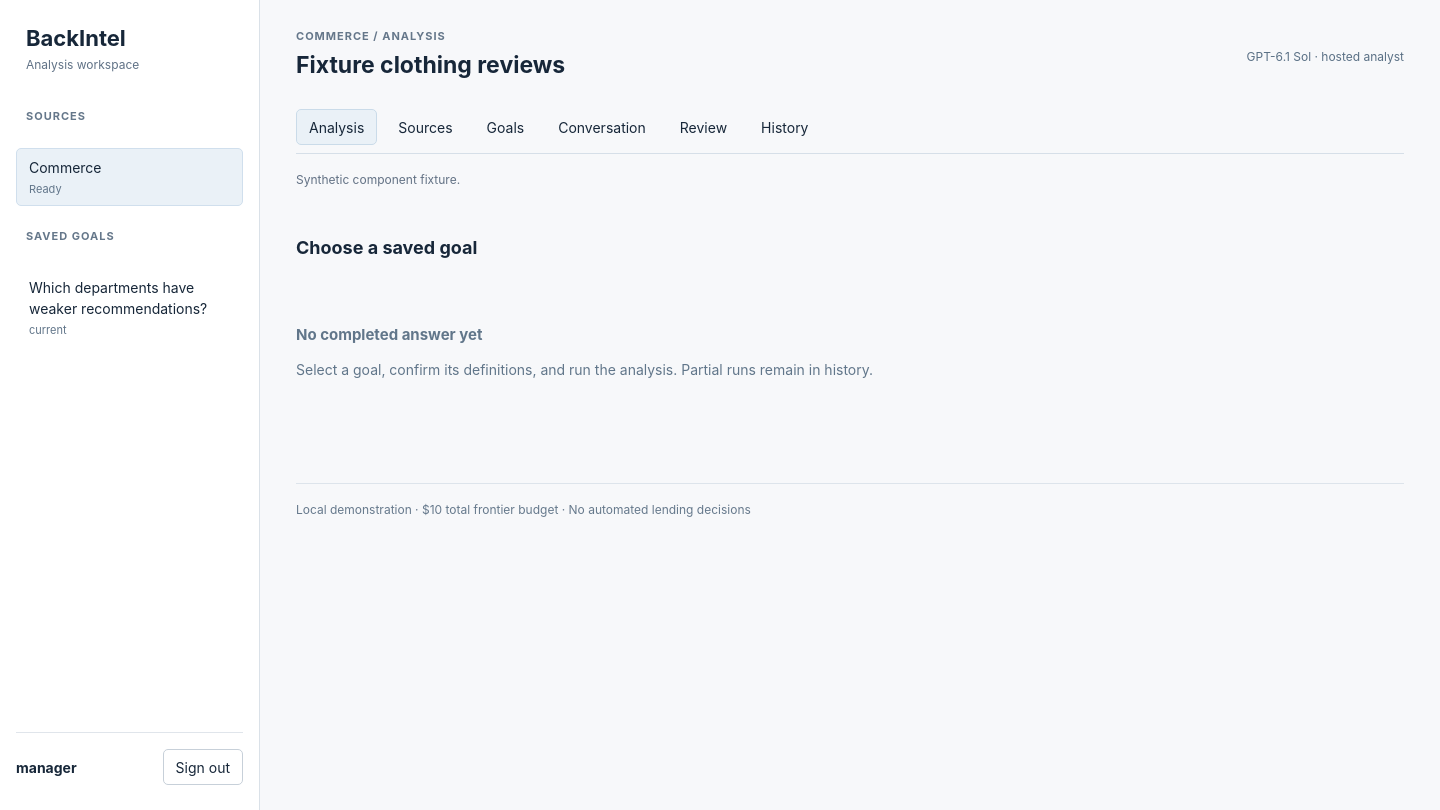
analysis workspace user controls › requires source confirmation before enabling import
Check: the heading "Fixture clothing reviews" is shown, box [296,51,565,80]
Click the button "Which departments have weaker recommendations? current".
click(130, 307)  # box [16,268,243,347]
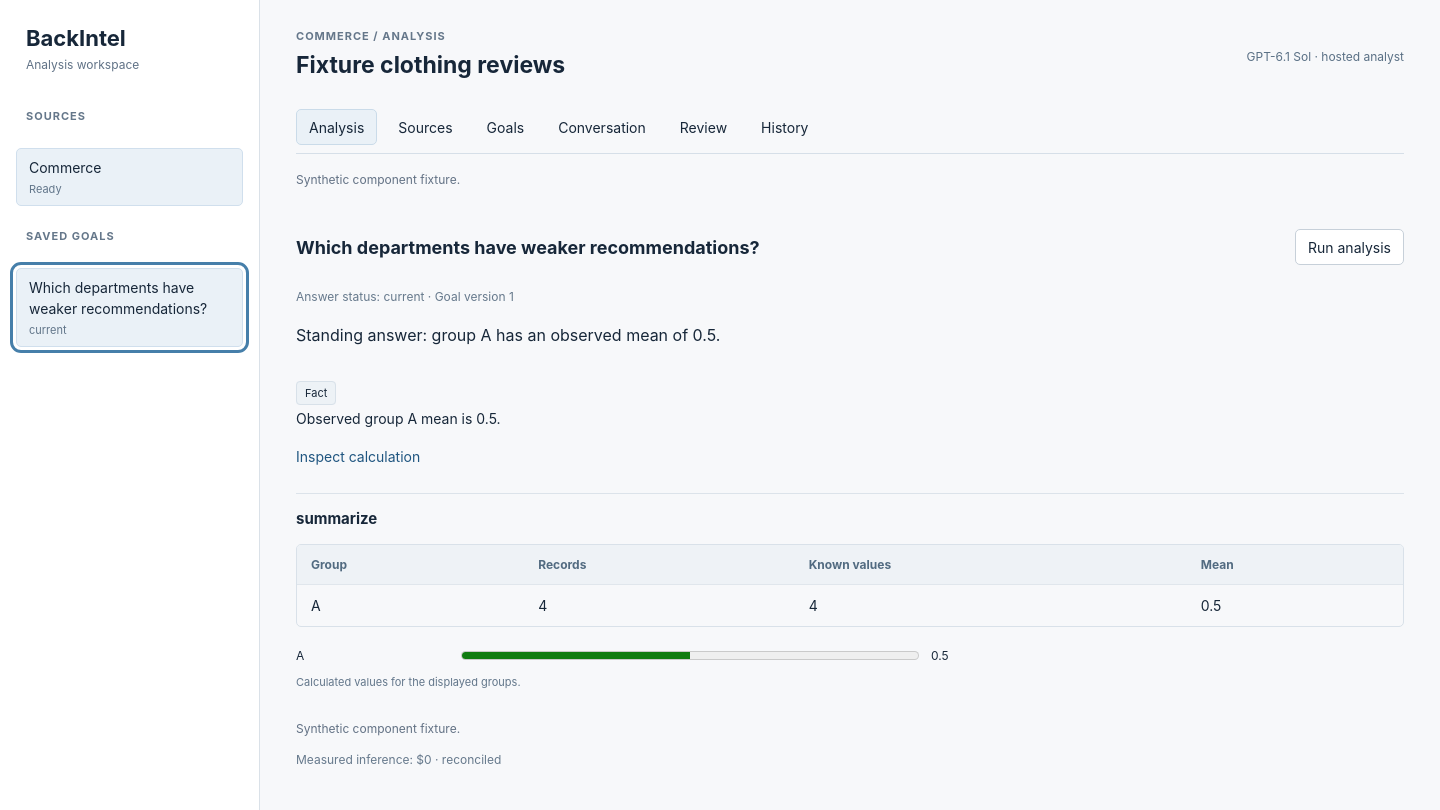
Check: the text "Standing answer: group A has an observed mean of 0.5." is shown, box [296,325,720,345]
Click the button "Sources".
click(425, 128)  # box [385,110,466,146]
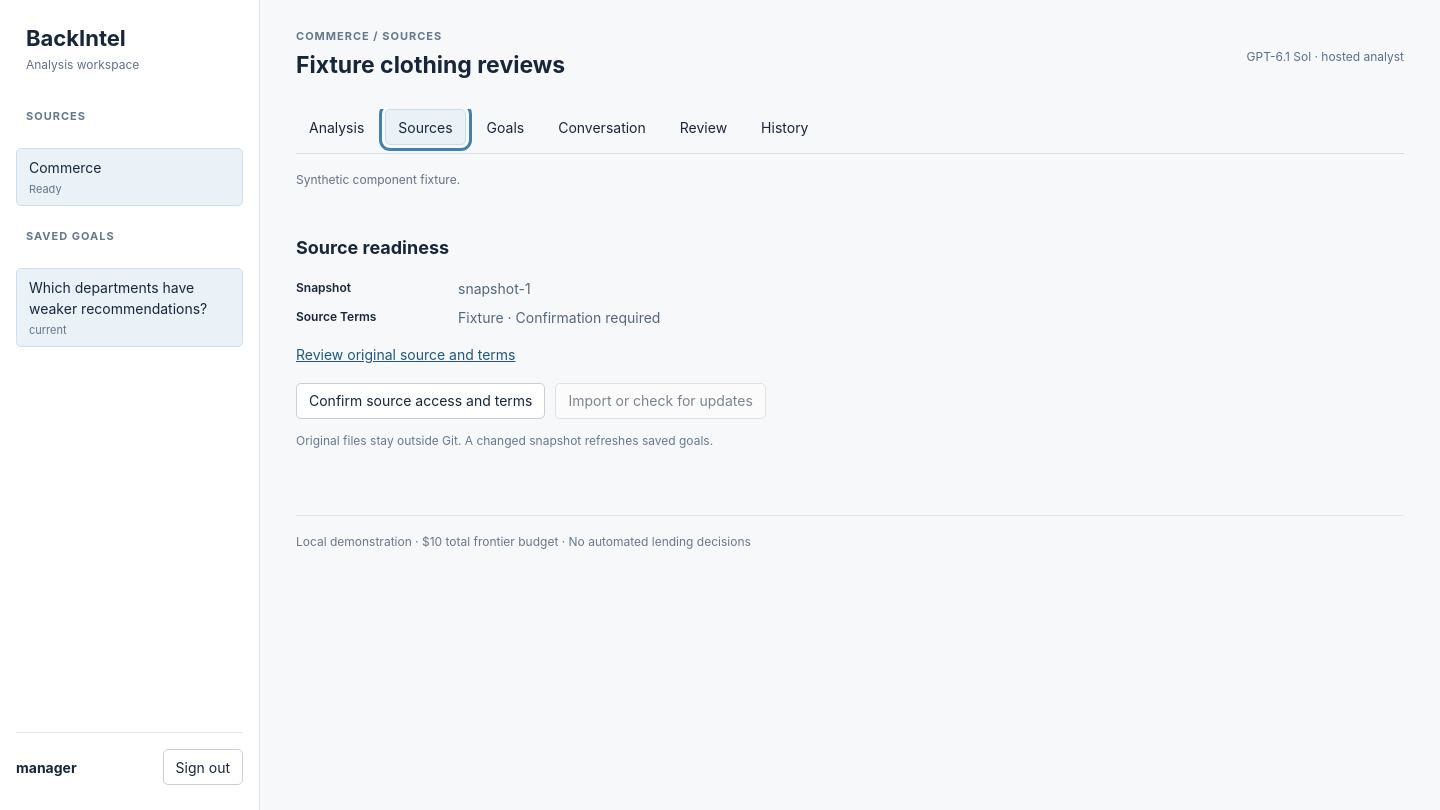
Check: the button "Import or check for updates" is disabled, box [556,383,766,419]
Click the button "Confirm source access and terms".
click(421, 401)  # box [296,383,546,419]
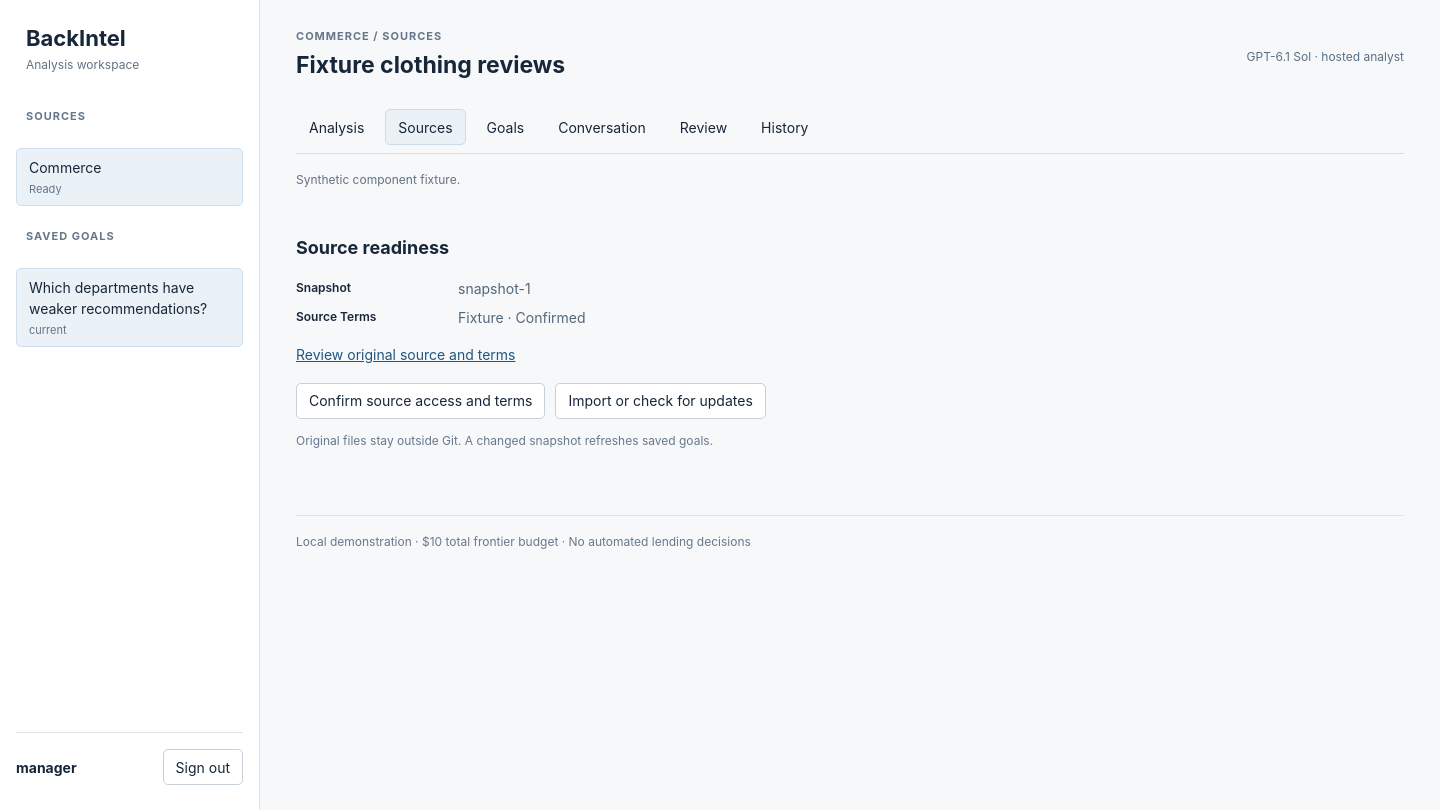
Check: the button "Import or check for updates" is enabled, box [556,383,766,419]
